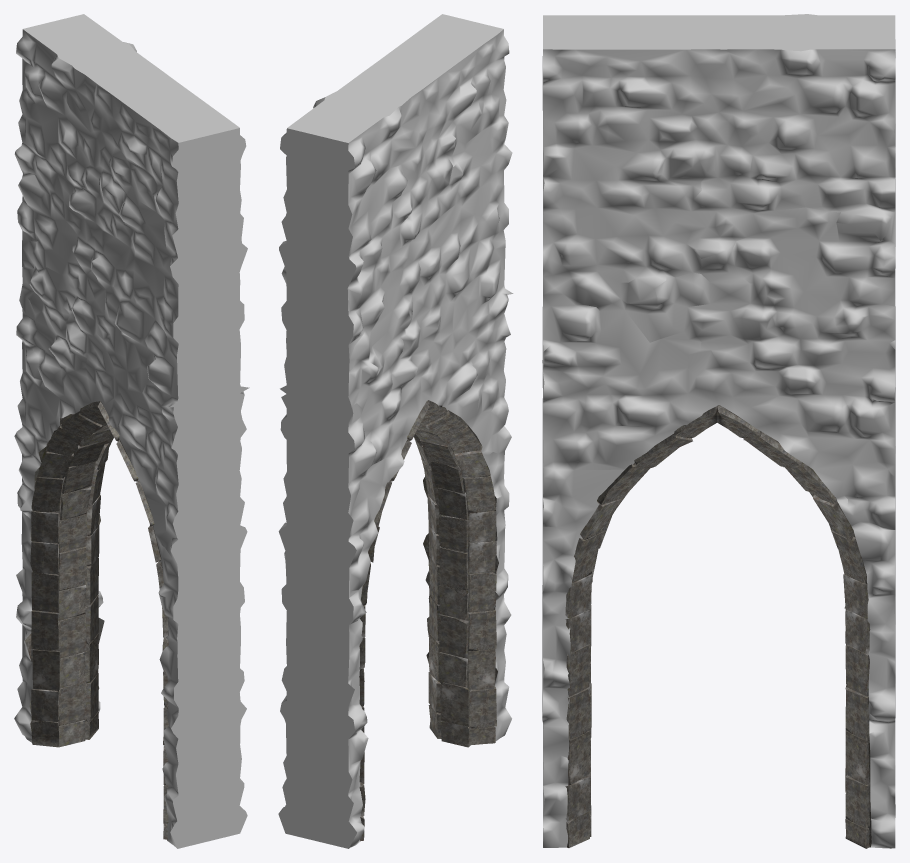
The model's file is SM_Doorway_2M.fbx.
3 views of the same model, side by side, from view 1: azimuth 30°, elevation 25°; view 2: azimuth 150°, elevation 25°; view 3: azimuth 270°, elevation 25° (orthographic). The views are drawn at different scales.
Visible parts, largest first — view 1: SM_Doorway_2M_LOD0; view 2: SM_Doorway_2M_LOD0; view 3: SM_Doorway_2M_LOD0.
Boxes of the visible parts, bbox=[...] form: SM_Doorway_2M_LOD0: bbox=[14, 14, 249, 848]; SM_Doorway_2M_LOD0: bbox=[278, 14, 513, 848]; SM_Doorway_2M_LOD0: bbox=[542, 14, 895, 848].
Size of the model in its own units: 126 by 401 by 1001.
